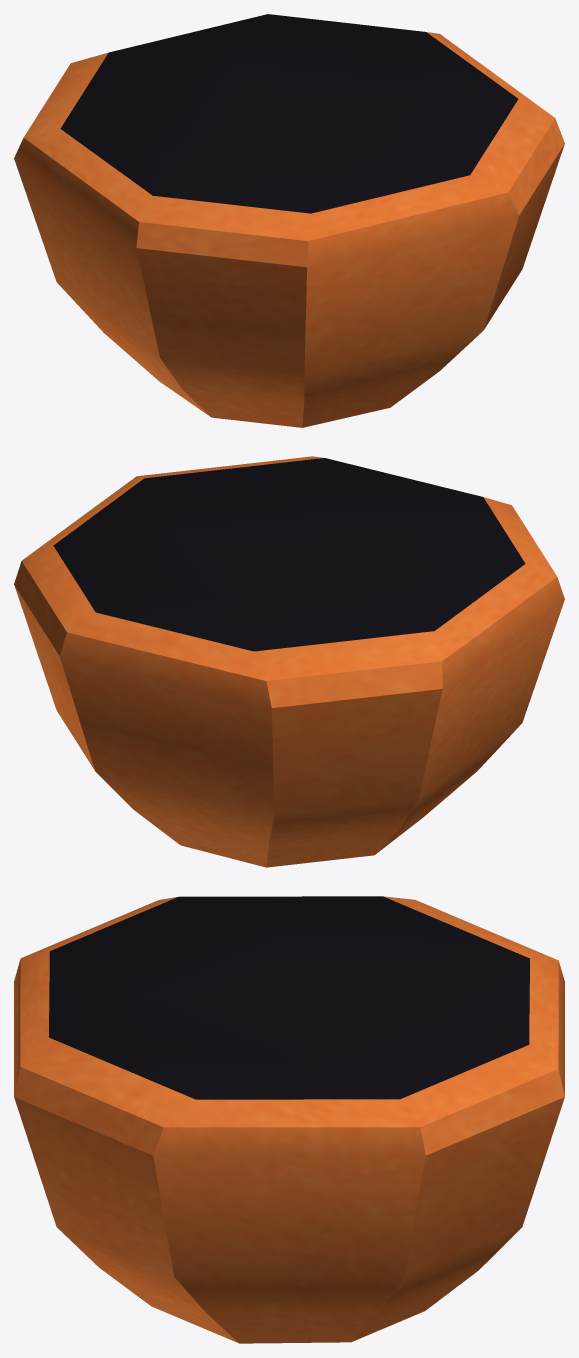
Rendered from CenouraRabo.fbx.
3 views of the same model, one above another, from view 1: azimuth 30°, elevation 25°; view 2: azimuth 150°, elevation 25°; view 3: azimuth 270°, elevation 25° (orthographic). The views are drawn at different scales.
Visible parts, largest first — view 1: Rabo; view 2: Rabo; view 3: Rabo.
Part boxes in pixels (x1=…): Rabo: x1=14, y1=14, x2=564, y2=427; Rabo: x1=14, y1=456, x2=564, y2=867; Rabo: x1=14, y1=896, x2=564, y2=1343.
Bounding box in the file's own units: 4.19 × 2.55 × 4.19.
